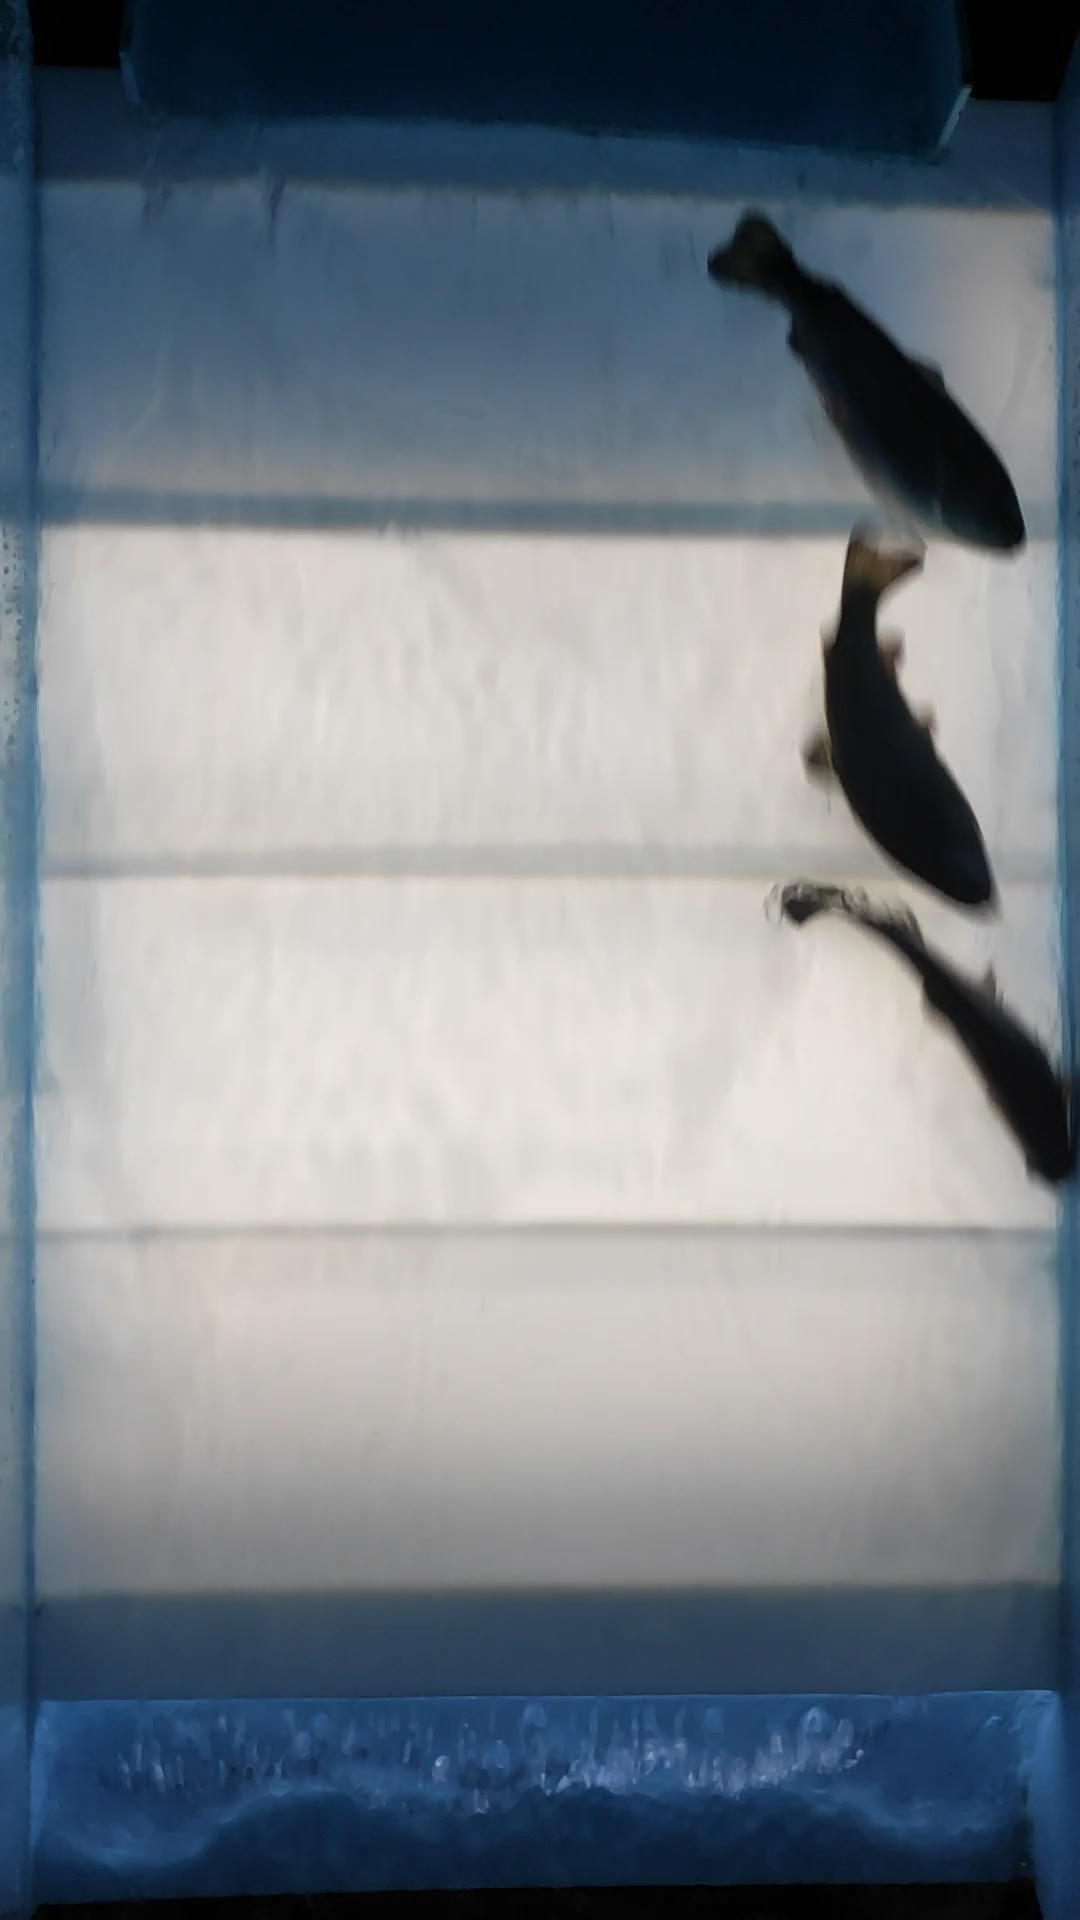fish: (707, 203, 1025, 556), (771, 880, 1080, 1207), (798, 512, 1007, 918)
